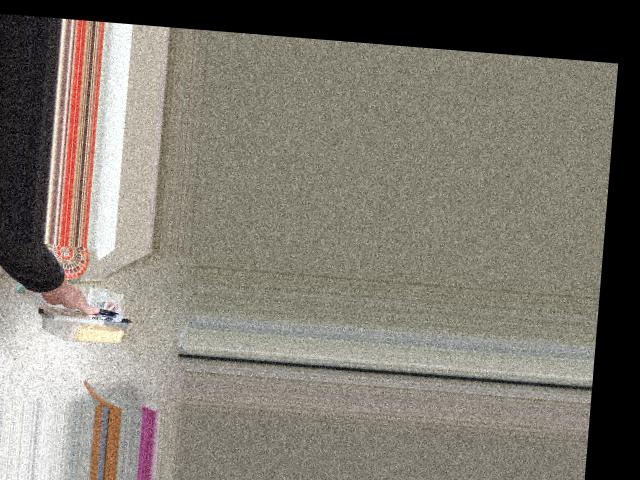cheese: (30, 252, 135, 353)
